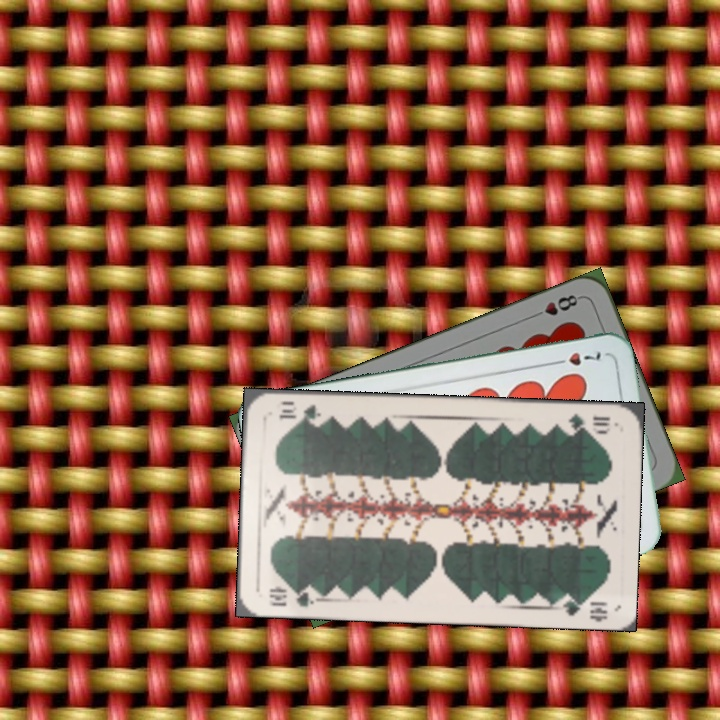G10: (265, 582, 321, 610), (564, 409, 613, 436)
H7: (548, 348, 604, 369)
H8: (528, 290, 584, 321)
